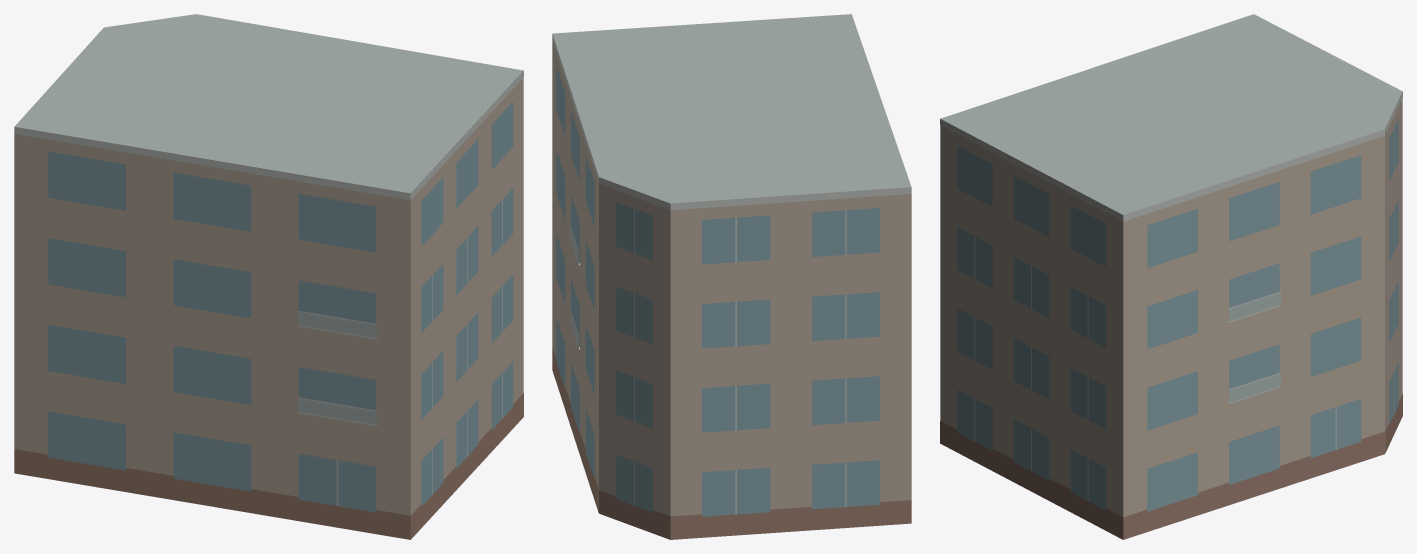
File: survey-upis-32746879.glb
The picture shows the model from 3 angles, left to right: view 1: azimuth 30°, elevation 25°; view 2: azimuth 150°, elevation 25°; view 3: azimuth 270°, elevation 25°; orthographic projection. The views are drawn at different scales.
Visible parts, largest first — view 1: survey-upis-32746879.tmp; view 2: survey-upis-32746879.tmp; view 3: survey-upis-32746879.tmp.
Boxes of the visible parts, left/top/right/bottom form: survey-upis-32746879.tmp: left=14, top=14, right=523, bottom=539; survey-upis-32746879.tmp: left=552, top=14, right=911, bottom=539; survey-upis-32746879.tmp: left=940, top=14, right=1402, bottom=539.
Bounding box in the file's own units: 16.08 × 12.1 × 15.62.
